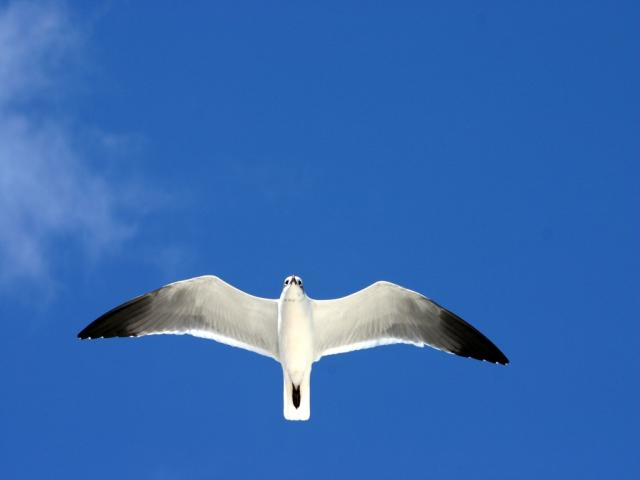Bird: (74, 268, 512, 418)
